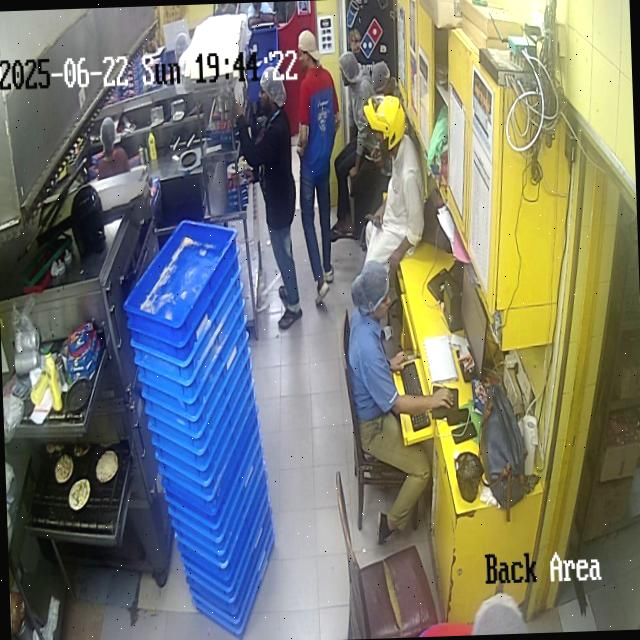helmet: (363, 94, 405, 151)
